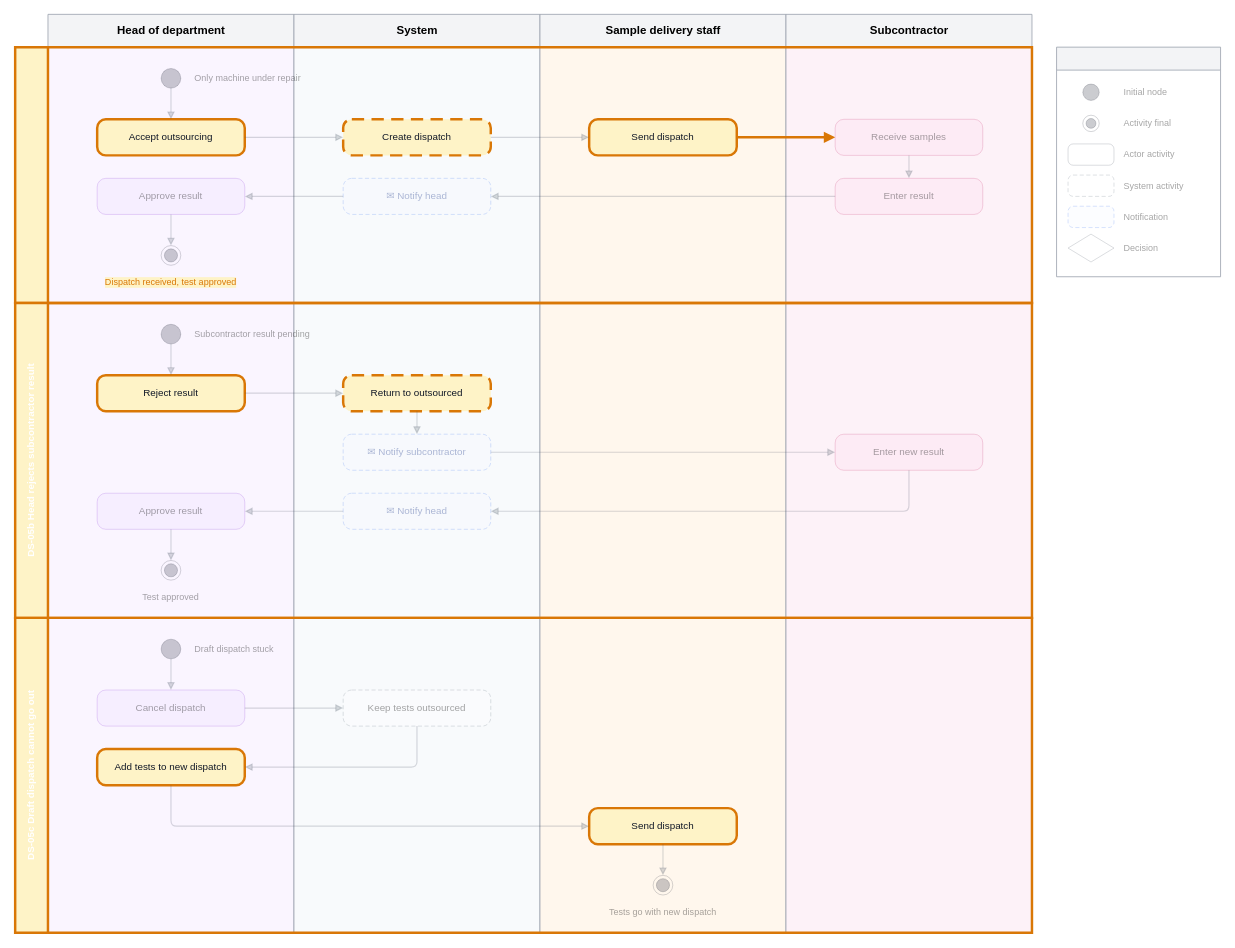
The diagram is 1235 pixels wide and 948 high, and some of its shapes have lost their labels. Each missing label, with the box of its shape:
DS-05a Main: subcontractor result approved: (14, 46, 1033, 304)
Legend: (1056, 46, 1221, 277)
